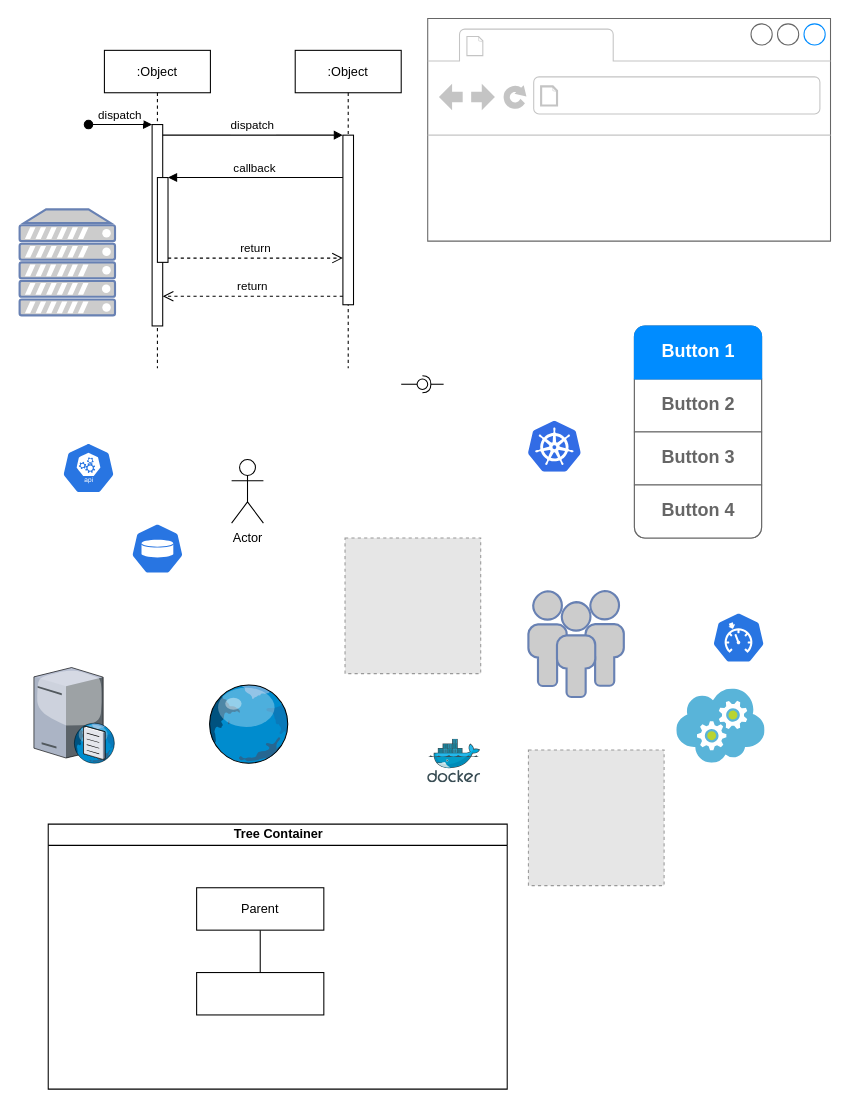
Some shapes in this 849 by 1108 pixel diagram are drawn without their labels. Grey dashed boxes stand in for pictures. The shapes that lost their labels are listed below. From the top down, each one's centre as x and y in pixels, then its label:
At point (549, 44): "Page 1".
At point (697, 95): "https://www.draw.io".
At point (260, 993): "Child".
